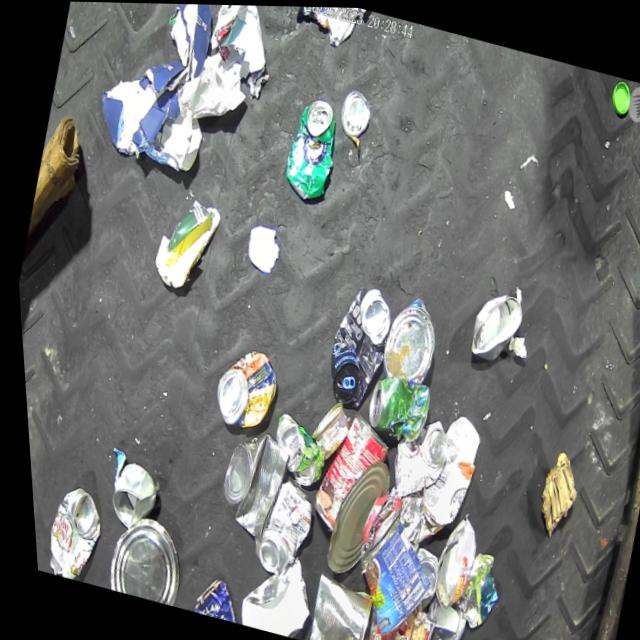can: (330, 507, 437, 640), (295, 406, 394, 542), (310, 278, 399, 411), (201, 423, 292, 546), (309, 452, 392, 581), (91, 507, 186, 606), (237, 473, 315, 579), (273, 91, 346, 204), (29, 480, 104, 584), (200, 341, 281, 435), (375, 409, 450, 507), (370, 289, 443, 385), (415, 511, 477, 613), (352, 368, 428, 446), (458, 281, 526, 365), (257, 410, 327, 489), (294, 569, 370, 640), (95, 460, 157, 535), (181, 570, 247, 625), (297, 395, 350, 463), (350, 599, 429, 640), (395, 544, 437, 611), (409, 593, 462, 640), (333, 86, 375, 139)
